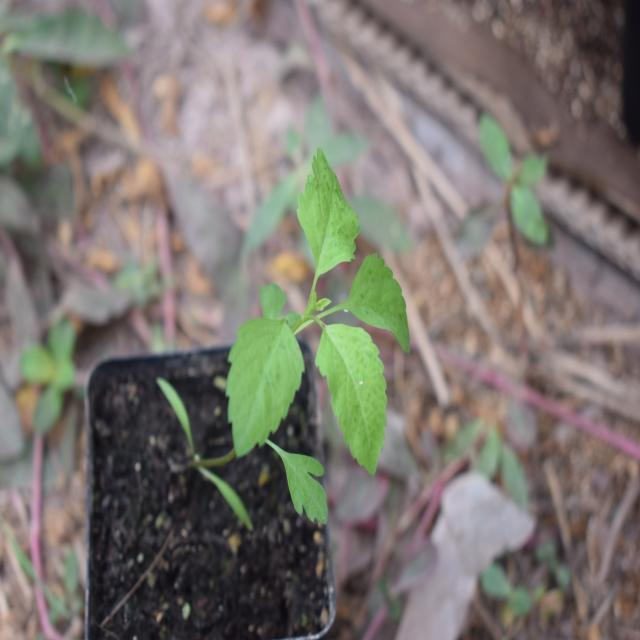Bidens pilosa: (210, 150, 410, 554)
